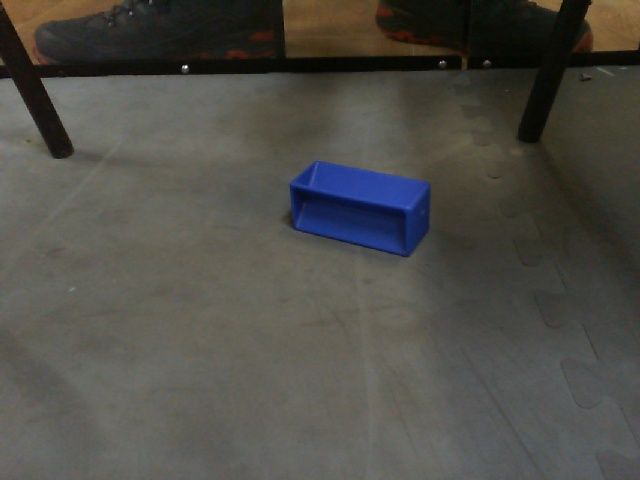BlueSample: (284, 160, 435, 261)
